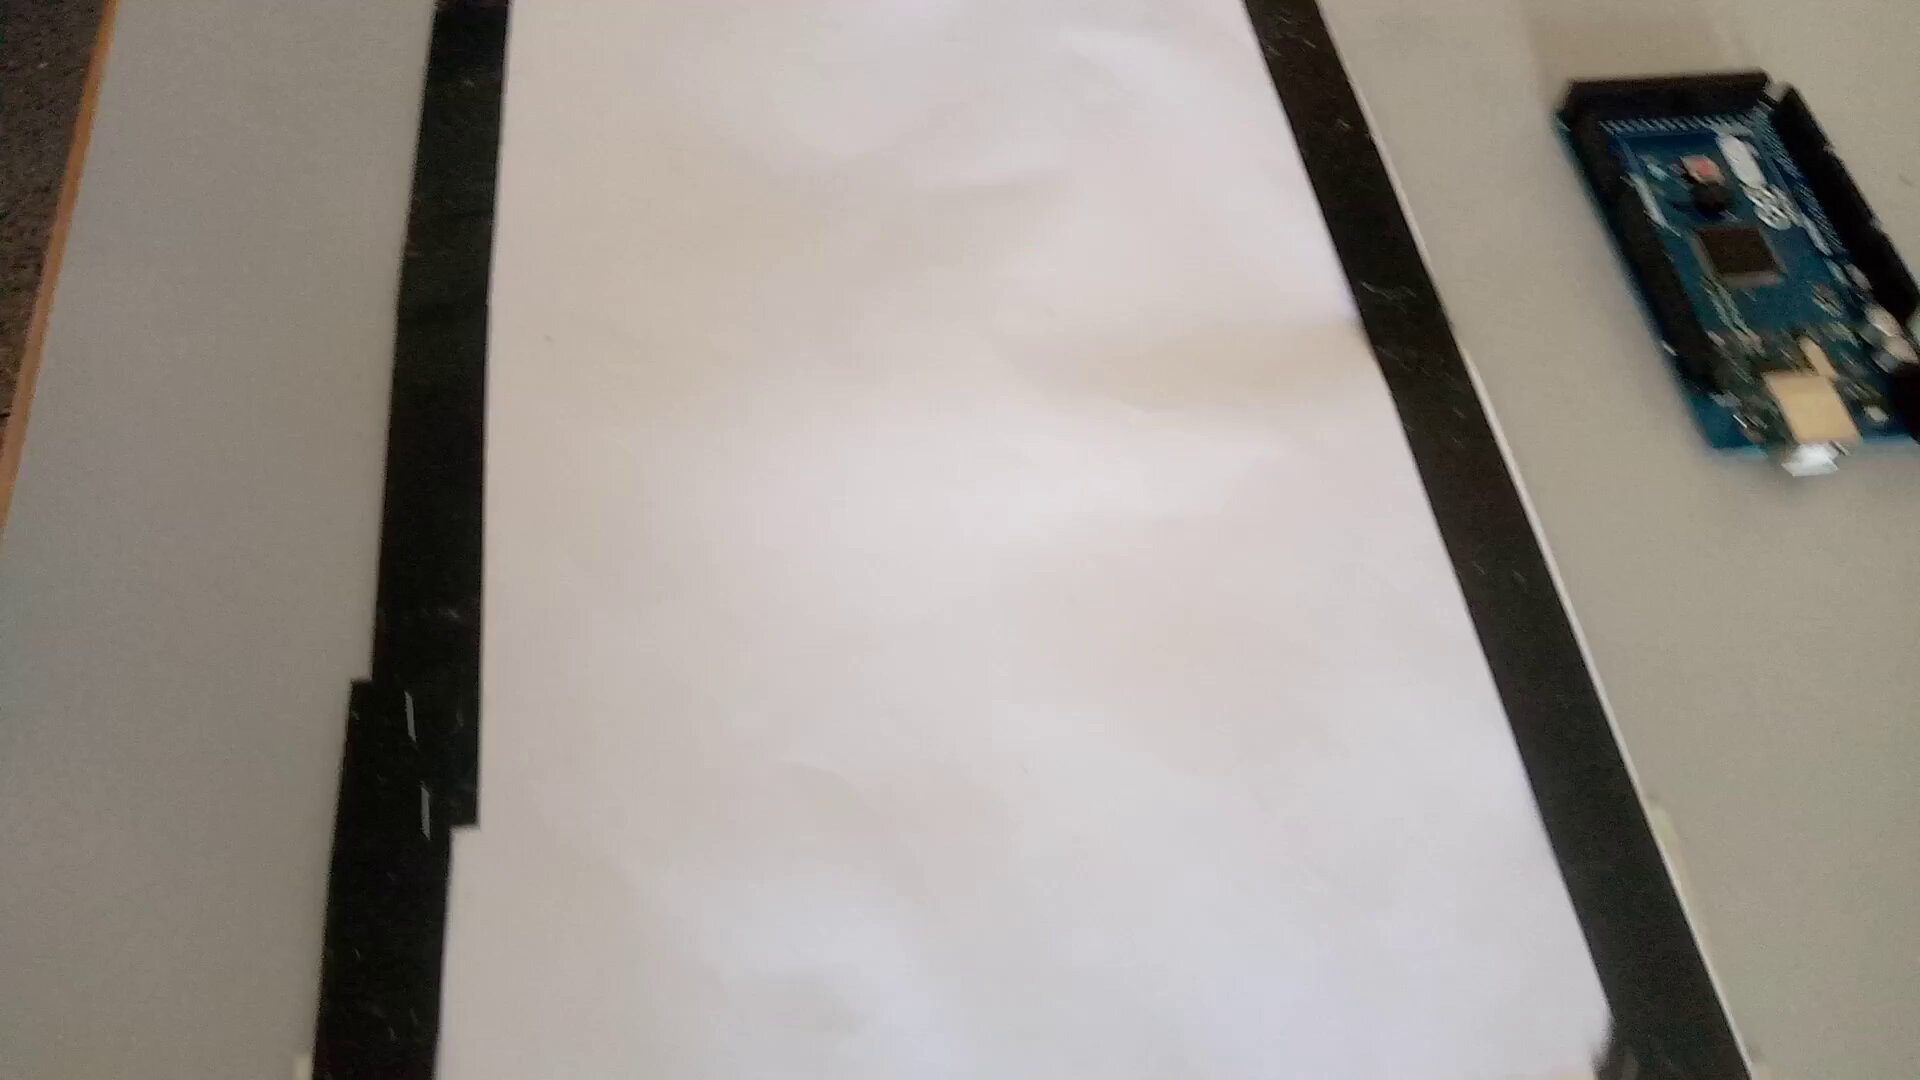forward: (345, 262, 1557, 612)
